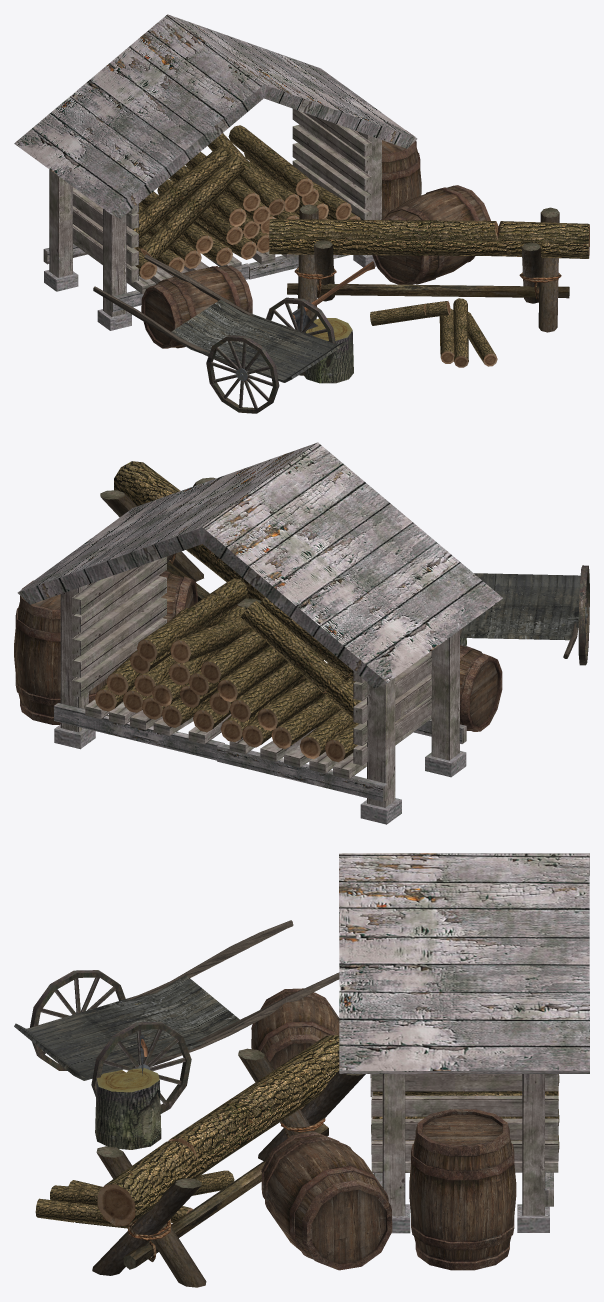
Rendered from Sawmill.fbx.
The picture shows the model from 3 angles, top to bottom: view 1: azimuth 30°, elevation 25°; view 2: azimuth 150°, elevation 25°; view 3: azimuth 270°, elevation 25°; orthographic projection. The views are drawn at different scales.
Parts seen in each view (by area): view 1: Woodshack_left_aiStandardSurface10_0, Woodshack_right_aiStandardSurface10_0, Cart1_aiStandardSurface11_0, Log_Big_aiStandardSurface9_0, Wood_stand_aiStandardSurface11_0, Barrel_3_aiStandardSurface10_0, Barrel_4_aiStandardSurface10_0, Log_Big26_aiStandardSurface9_0, Barrel_2_aiStandardSurface10_0, Log_Big35_aiStandardSurface9_0, Log_Big23_aiStandardSurface9_0, Log_Small_aiStandardSurface9_0 (+13 smaller); view 2: Woodshack_left_aiStandardSurface10_0, Woodshack_right_aiStandardSurface10_0, Cart1_aiStandardSurface11_0, Barrel_2_aiStandardSurface10_0, Log_Big35_aiStandardSurface9_0, Barrel_4_aiStandardSurface10_0, Log_Big23_aiStandardSurface9_0, Log_Big_aiStandardSurface9_0, Log_Big22_aiStandardSurface9_0, Log_Big18_aiStandardSurface9_0, Log_Big16_aiStandardSurface9_0, Log_Big24_aiStandardSurface9_0 (+18 smaller); view 3: Woodshack_right_aiStandardSurface10_0, Cart1_aiStandardSurface11_0, Barrel_2_aiStandardSurface10_0, Barrel_3_aiStandardSurface10_0, Log_Big_aiStandardSurface9_0, Wood_stand_aiStandardSurface11_0, Log_Small_aiStandardSurface9_0, Barrel_4_aiStandardSurface10_0, Log_Big31_aiStandardSurface9_0, Log_Big29_aiStandardSurface9_0, Log_Big30_aiStandardSurface9_0.
Part boxes in pixels (box(x1,y1,x2,y2)): Woodshack_left_aiStandardSurface10_0: box(14, 14, 263, 330); Woodshack_right_aiStandardSurface10_0: box(168, 14, 417, 279); Cart1_aiStandardSurface11_0: box(93, 254, 346, 413); Log_Big_aiStandardSurface9_0: box(269, 219, 589, 258); Wood_stand_aiStandardSurface11_0: box(287, 204, 569, 332); Barrel_3_aiStandardSurface10_0: box(372, 185, 490, 284); Barrel_4_aiStandardSurface10_0: box(141, 265, 252, 348); Log_Big26_aiStandardSurface9_0: box(140, 155, 245, 259); Barrel_2_aiStandardSurface10_0: box(356, 130, 421, 218); Log_Big35_aiStandardSurface9_0: box(132, 146, 229, 238); Log_Big23_aiStandardSurface9_0: box(228, 125, 313, 196); Log_Small_aiStandardSurface9_0: box(304, 318, 353, 383); Woodshack_left_aiStandardSurface10_0: box(202, 442, 502, 824); Woodshack_right_aiStandardSurface10_0: box(17, 442, 317, 760); Cart1_aiStandardSurface11_0: box(460, 565, 589, 665); Barrel_2_aiStandardSurface10_0: box(14, 580, 107, 724); Log_Big35_aiStandardSurface9_0: box(241, 600, 361, 718); Barrel_4_aiStandardSurface10_0: box(460, 645, 502, 731); Log_Big23_aiStandardSurface9_0: box(137, 578, 247, 661); Log_Big_aiStandardSurface9_0: box(114, 461, 264, 600); Log_Big22_aiStandardSurface9_0: box(170, 614, 251, 663); Log_Big18_aiStandardSurface9_0: box(217, 645, 288, 701); Log_Big16_aiStandardSurface9_0: box(229, 652, 323, 722); Log_Big24_aiStandardSurface9_0: box(200, 628, 269, 683); Woodshack_right_aiStandardSurface10_0: box(339, 853, 589, 1233); Cart1_aiStandardSurface11_0: box(14, 920, 339, 1113); Barrel_2_aiStandardSurface10_0: box(409, 1109, 516, 1270); Barrel_3_aiStandardSurface10_0: box(261, 1131, 392, 1270); Log_Big_aiStandardSurface9_0: box(97, 1035, 339, 1226); Wood_stand_aiStandardSurface11_0: box(92, 1048, 365, 1287); Log_Small_aiStandardSurface9_0: box(95, 1068, 161, 1149); Barrel_4_aiStandardSurface10_0: box(251, 988, 339, 1106); Log_Big31_aiStandardSurface9_0: box(35, 1198, 170, 1228); Log_Big29_aiStandardSurface9_0: box(50, 1185, 101, 1205); Log_Big30_aiStandardSurface9_0: box(192, 1170, 234, 1195).
Bounding box in the file's own units: 390 × 192 × 342.
Materials: 3 (3 with a texture image).
